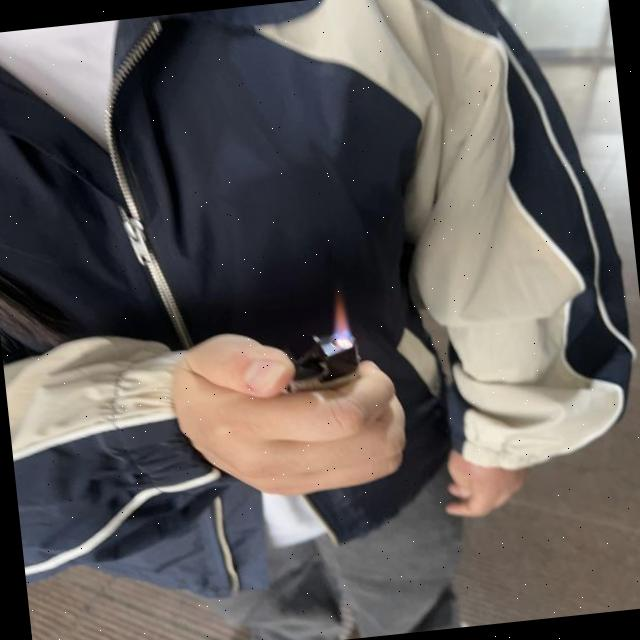fire: (333, 294, 354, 352)
